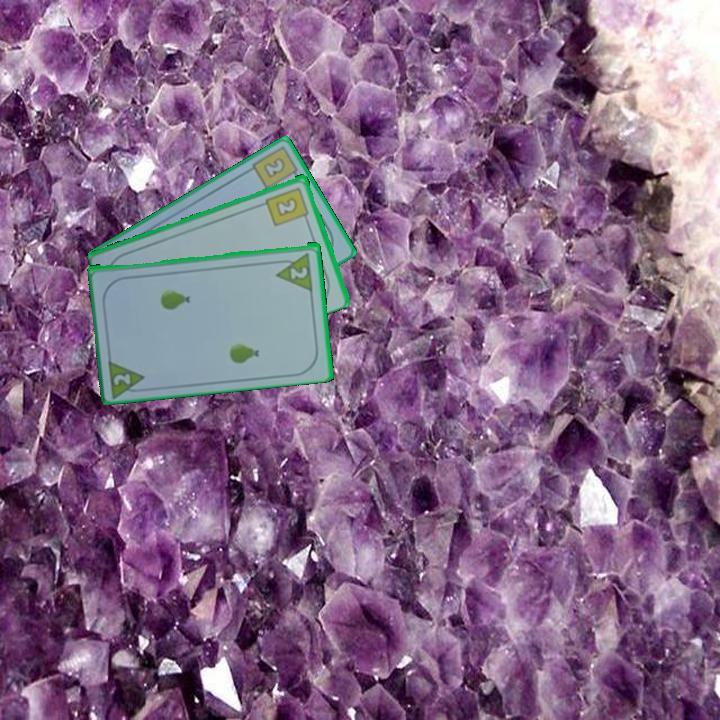2b: (248, 143, 303, 192), (262, 183, 312, 229)
2p: (105, 354, 150, 399), (287, 263, 311, 281)
